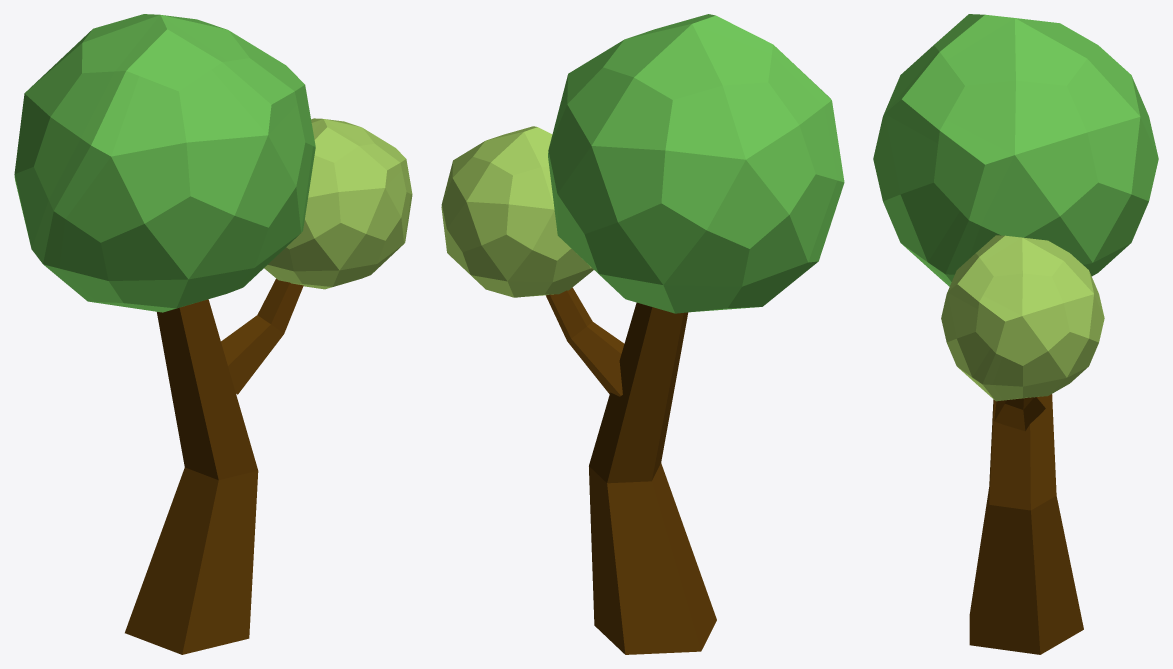
Rendered from tree_standard_WithExtraBranch.fbx.
3 renders of one model, left to right at view 1: azimuth 30°, elevation 25°; view 2: azimuth 150°, elevation 25°; view 3: azimuth 270°, elevation 25°, orthographic. The views are drawn at different scales.
Visible parts, largest first — view 1: Cylinder, Cylinder.001, Cylinder.003, Cylinder.002; view 2: Cylinder, Cylinder.001, Cylinder.003, Cylinder.002; view 3: Cylinder, Cylinder.003, Cylinder.001, Cylinder.002.
Boxes of the visible parts, x1,y1,x2,y2 form: Cylinder: (14,14,315,312); Cylinder.001: (125,299,258,654); Cylinder.003: (264,118,412,289); Cylinder.002: (221,278,303,394); Cylinder: (548,14,844,313); Cylinder.001: (589,302,716,654); Cylinder.003: (441,126,593,297); Cylinder.002: (546,287,624,396); Cylinder: (873,14,1158,286); Cylinder.003: (941,235,1104,401); Cylinder.001: (969,394,1083,654); Cylinder.002: (994,397,1045,431).
Size of the model in its own units: 653 by 1042 by 452.
